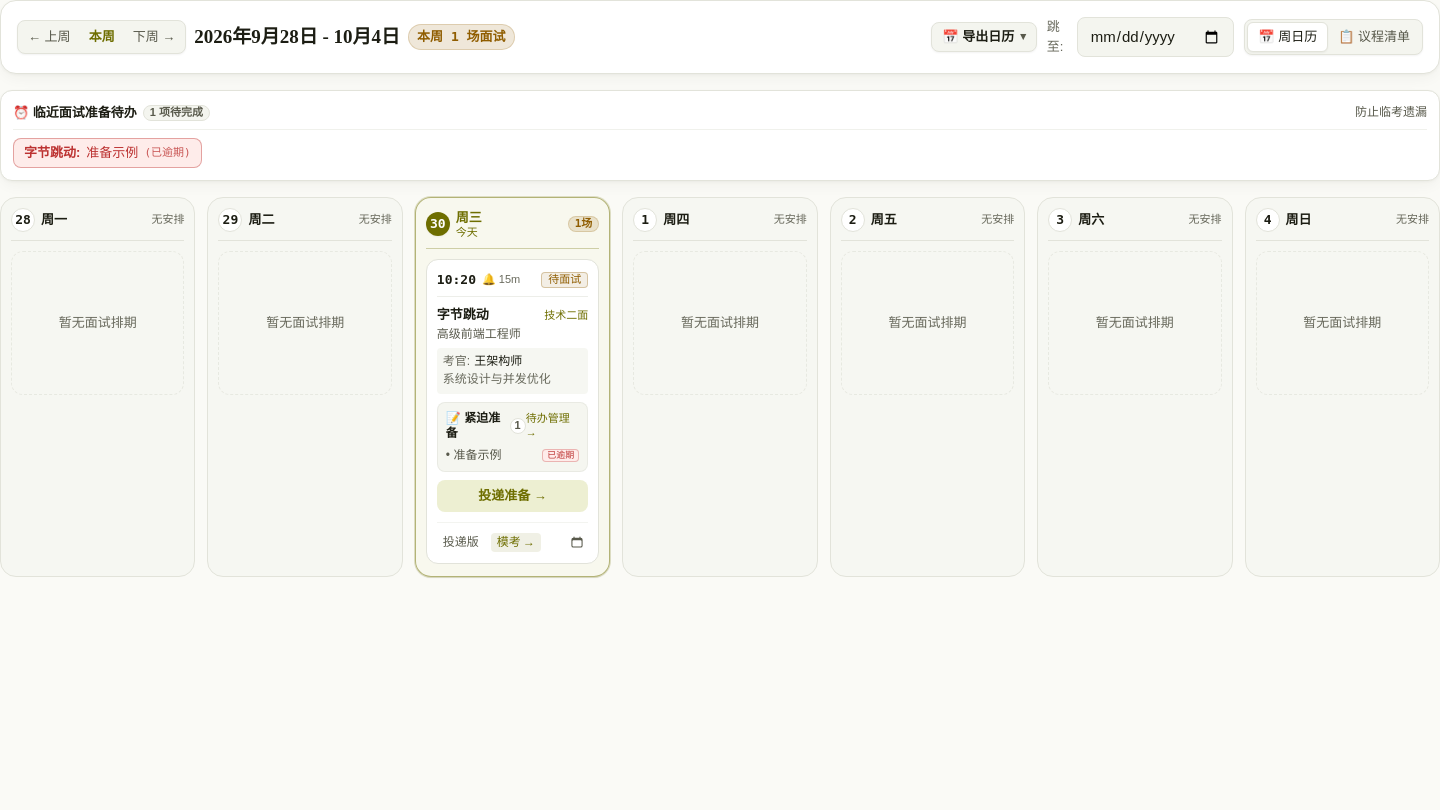
Calendar view components › 保持挂载时更新卡片倒计时、截止提示和议程历史分类
Expected: the text "(已逾期)" is shown 2 times, [144,146,191,160]; [542,449,579,462]
Step 1. Click the button "📋 议程清单" → (1374, 37), box [1328,23,1420,51]
Wait 7260000 ms
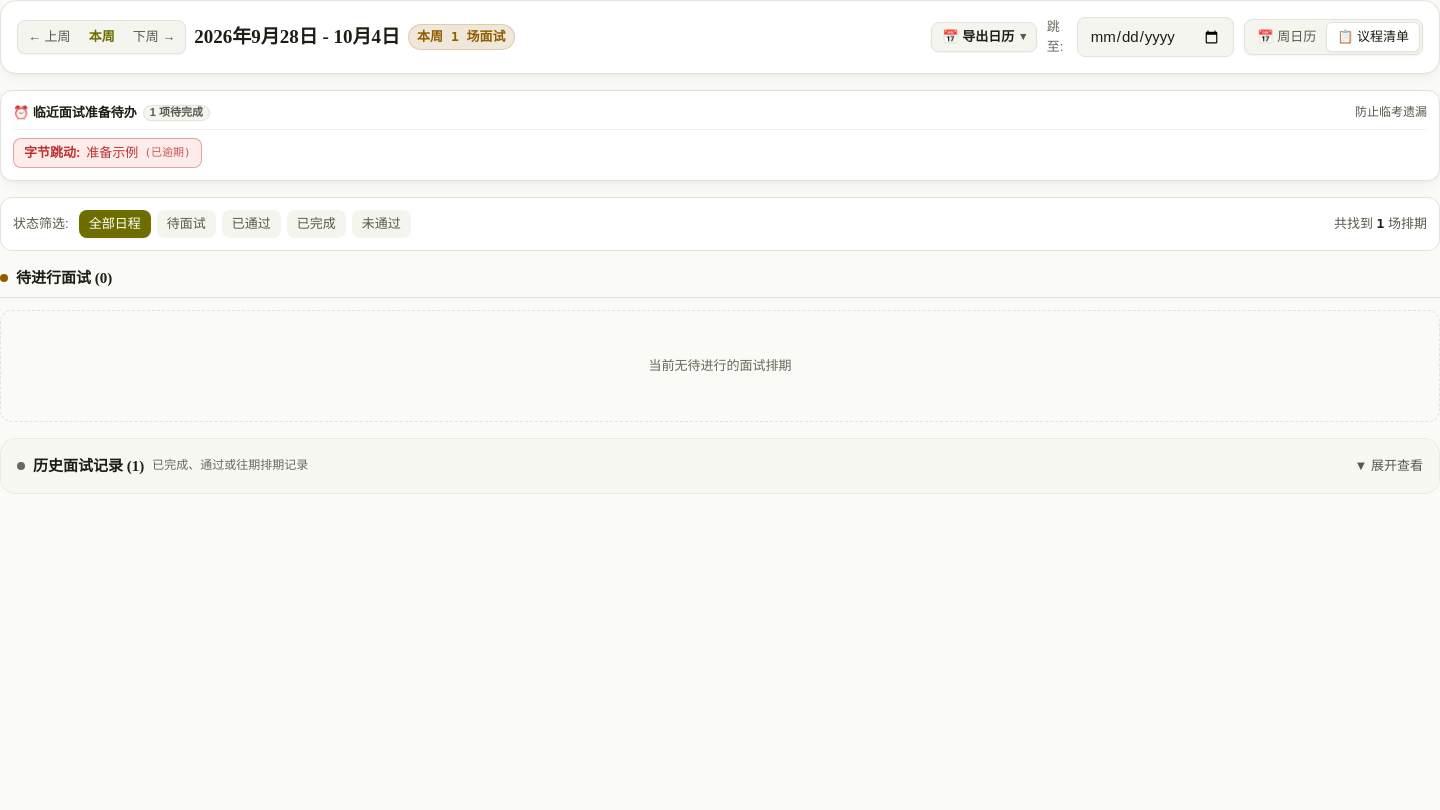
Now the heading "待进行面试 (0)" is shown, box [16,267,112,289]
